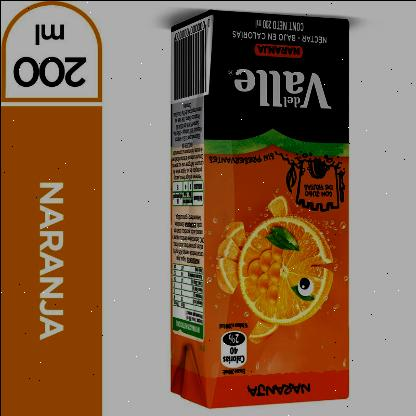Others: (156, 0, 358, 410)
